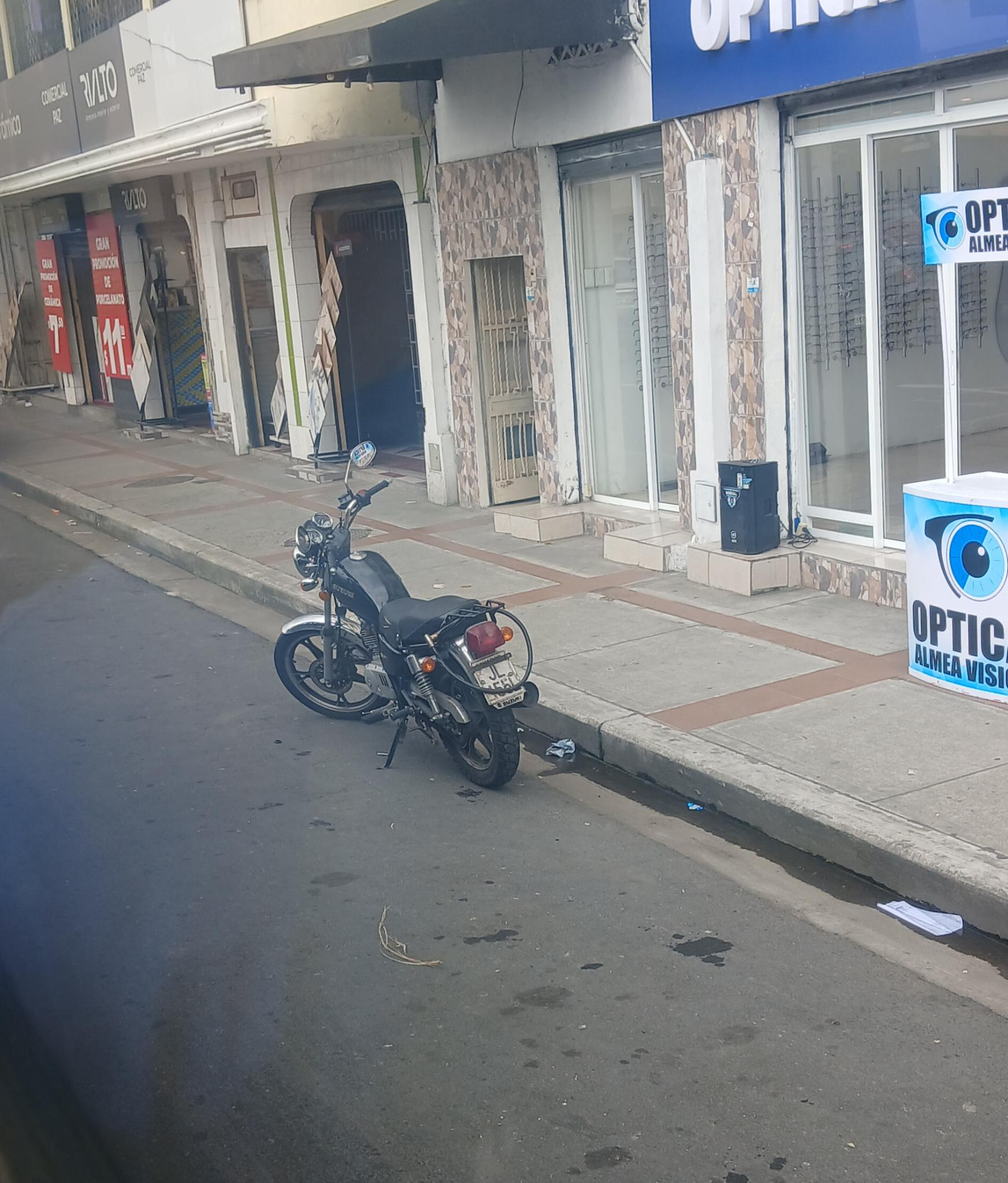license_plate: (478, 655, 521, 717)
